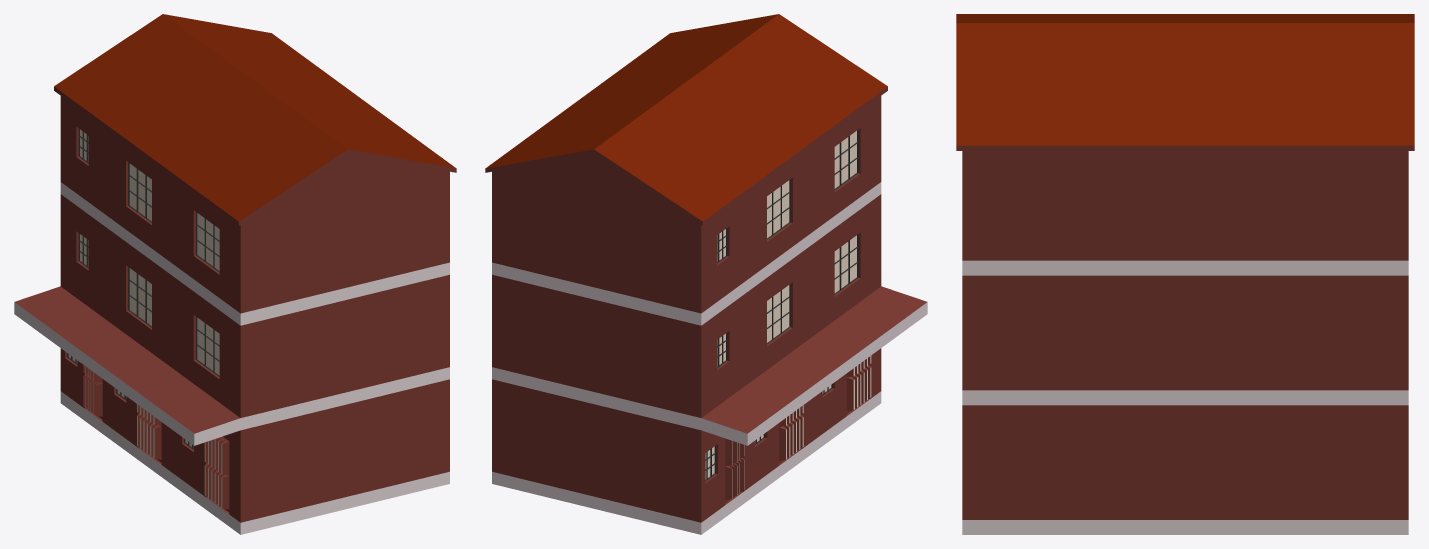
Rendered from Building 5.fbx.
3 renders of one model, left to right at view 1: azimuth 30°, elevation 25°; view 2: azimuth 150°, elevation 25°; view 3: azimuth 270°, elevation 25°, orthographic. The views are drawn at different scales.
Parts seen in each view (by area): view 1: building_003; view 2: building_003; view 3: building_003.
Boxes of the visible parts, bbox=[...] form: building_003: bbox=[14, 14, 456, 534]; building_003: bbox=[485, 14, 927, 534]; building_003: bbox=[956, 14, 1414, 534].
Size of the model in its own units: 624 by 830 by 769.
